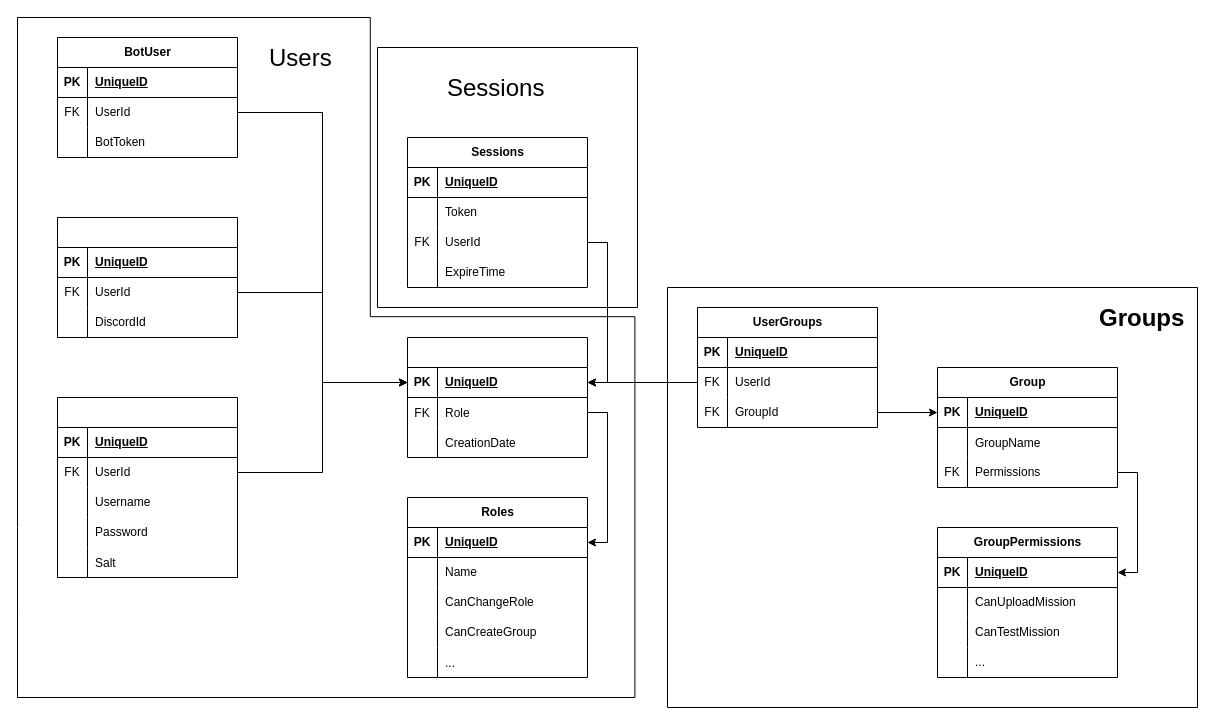
This 1215x725 diagram has some shape labels left out. Here are the shapes that lost their labels. From the top down, the box of each, then its label:
(56, 216, 238, 338): DiscordUser
(406, 336, 588, 458): User
(56, 396, 238, 578): AuthUser
